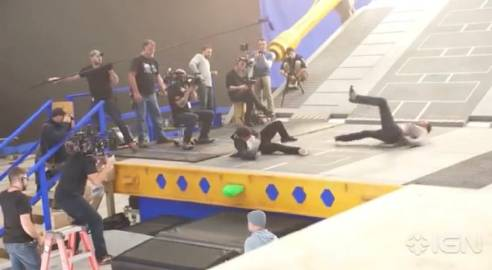fall: (223, 116, 314, 163)
